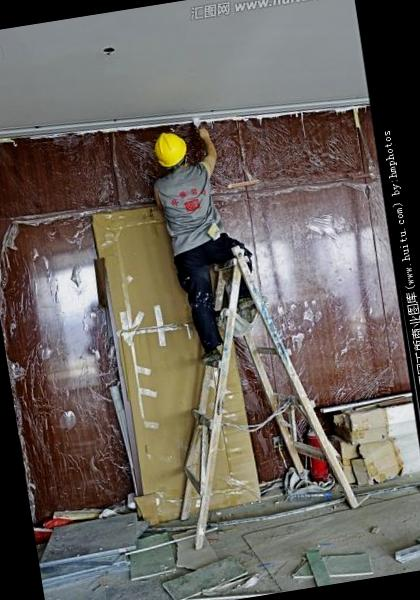helmet: (140, 122, 194, 178)
no_vest: (146, 162, 232, 263)
person: (136, 114, 268, 371)
